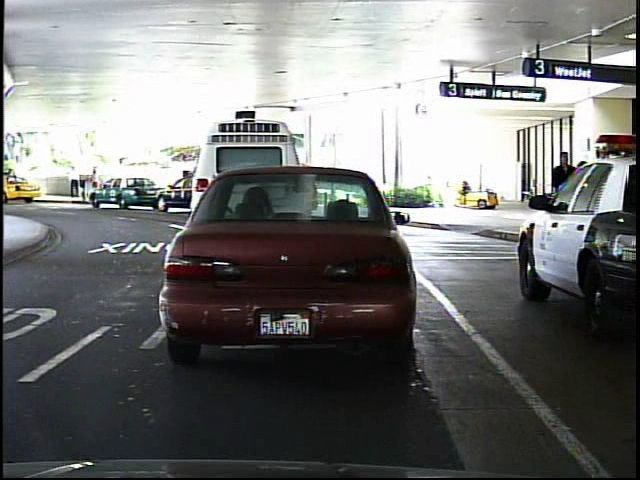person: (548, 147, 580, 239), (85, 164, 104, 199), (69, 161, 82, 200)
